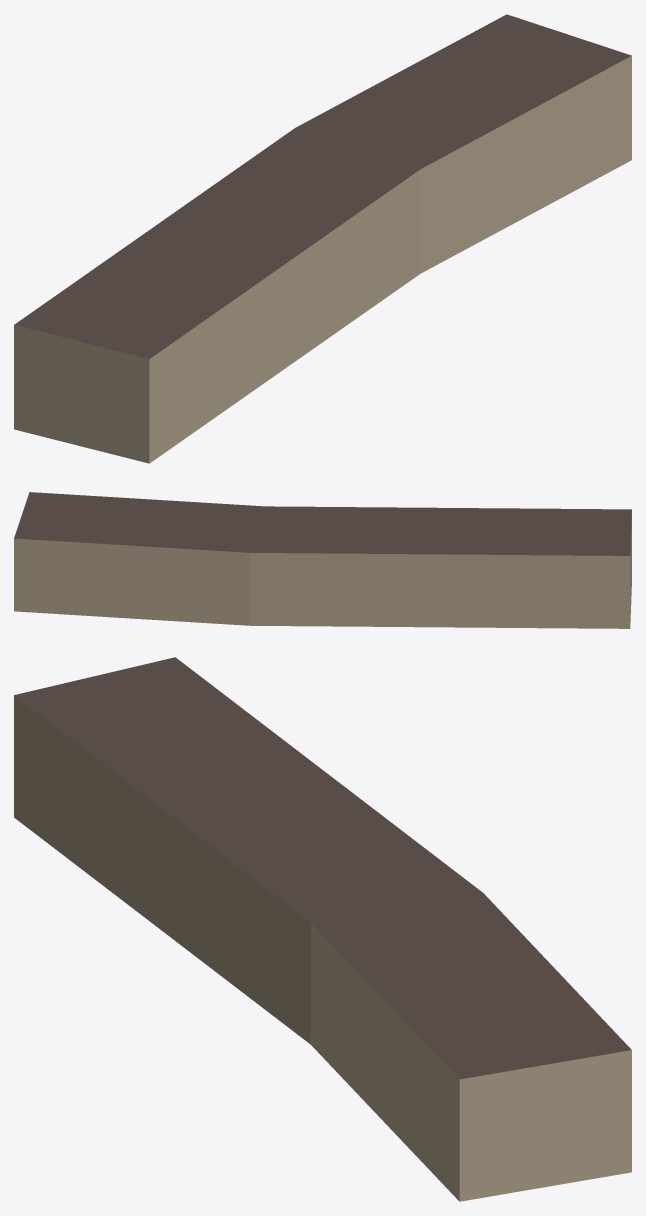
3 renders of one model, top to bottom at view 1: azimuth 30°, elevation 25°; view 2: azimuth 150°, elevation 25°; view 3: azimuth 270°, elevation 25°, orthographic. The views are drawn at different scales.
Visible parts, largest first — view 1: HP-w859447933; view 2: HP-w859447933; view 3: HP-w859447933.
Boxes of the visible parts, x1,y1,x2,y2 form: HP-w859447933: [14, 14, 631, 463]; HP-w859447933: [14, 492, 631, 628]; HP-w859447933: [14, 657, 631, 1201].
Size of the model in its own units: 66.63 by 9 by 41.21.
